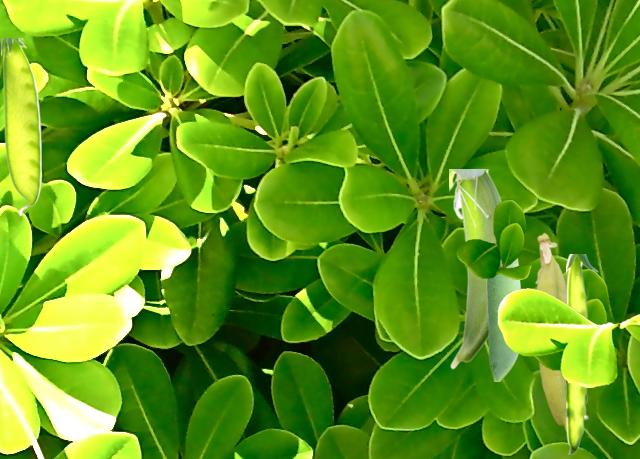pea: (449, 169, 501, 368), (1, 38, 40, 215), (534, 232, 565, 431), (566, 254, 597, 453), (486, 258, 520, 380)
